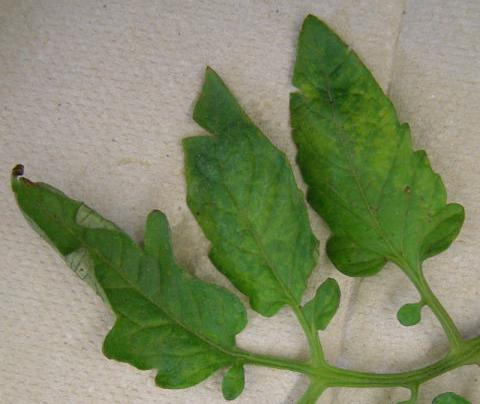Tomato leaf mosaic virus: (3, 163, 244, 391), (285, 8, 471, 288), (191, 65, 313, 309)
